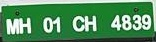character: (5, 17, 20, 35), (71, 15, 84, 32), (84, 14, 96, 32), (19, 17, 31, 34), (110, 14, 121, 31), (42, 17, 53, 33), (121, 14, 132, 30), (52, 15, 61, 33), (132, 13, 141, 31), (141, 14, 151, 30)
